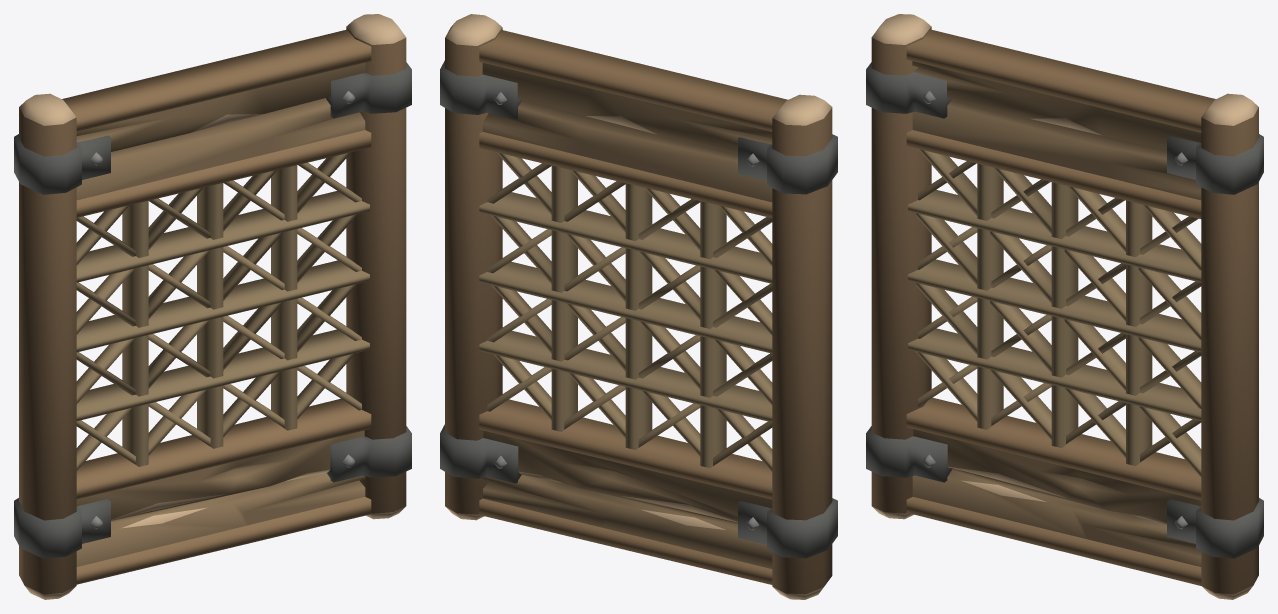
File: rpgpp_ag_shelf_wood_04a.fbx
3 renders of one model, left to right at view 1: azimuth 30°, elevation 25°; view 2: azimuth 150°, elevation 25°; view 3: azimuth 330°, elevation 25°, orthographic.
Visible parts, largest first — view 1: rpgpp_ag_shelf_wood_04a; view 2: rpgpp_ag_shelf_wood_04a; view 3: rpgpp_ag_shelf_wood_04a.
Part boxes in pixels (box(x1,y1,x2,y2)): rpgpp_ag_shelf_wood_04a: box(14, 14, 411, 599); rpgpp_ag_shelf_wood_04a: box(440, 14, 837, 599); rpgpp_ag_shelf_wood_04a: box(866, 14, 1263, 599).
Bounding box in the file's own units: 2.01 × 2.44 × 0.3535.
